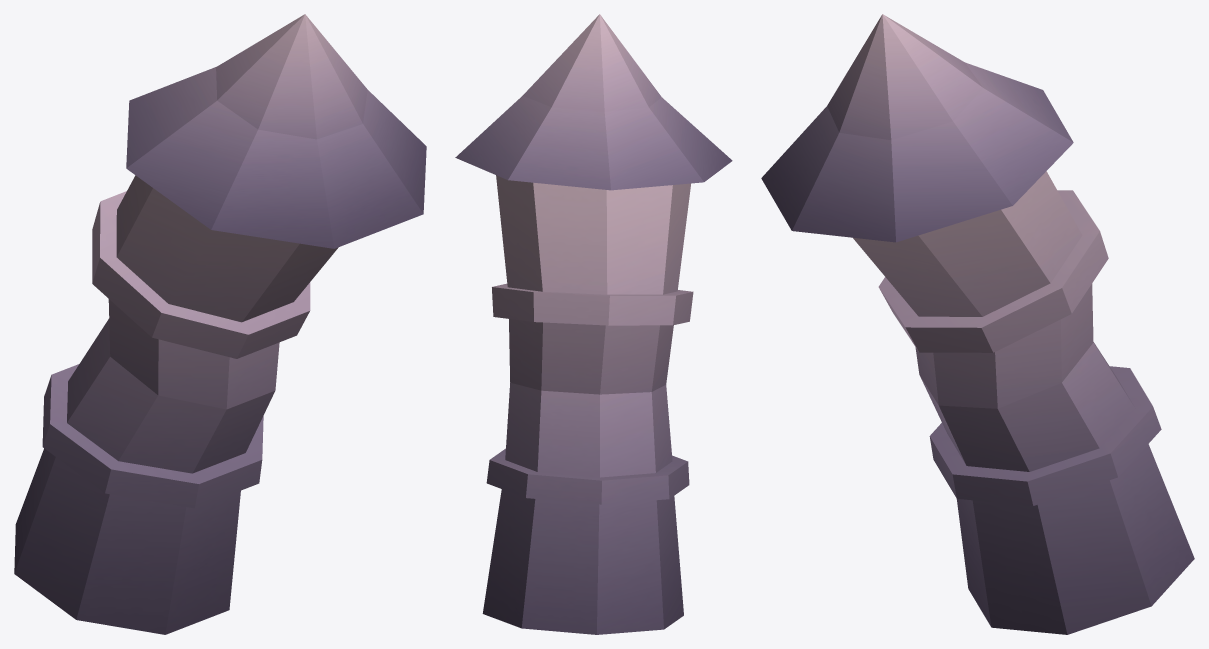
File: Chimney 2.fbx
3 views of the same model, side by side, from view 1: azimuth 30°, elevation 25°; view 2: azimuth 150°, elevation 25°; view 3: azimuth 270°, elevation 25° (orthographic). The views are drawn at different scales.
Parts seen in each view (by area): view 1: Chimney 2; view 2: Chimney 2; view 3: Chimney 2.
Part boxes in pixels (left/top/right/bottom): Chimney 2: left=14, top=14, right=426, bottom=634; Chimney 2: left=455, top=14, right=732, bottom=634; Chimney 2: left=761, top=14, right=1194, bottom=634.
Bounding box in the file's own units: 50.19 × 97.29 × 61.31.
